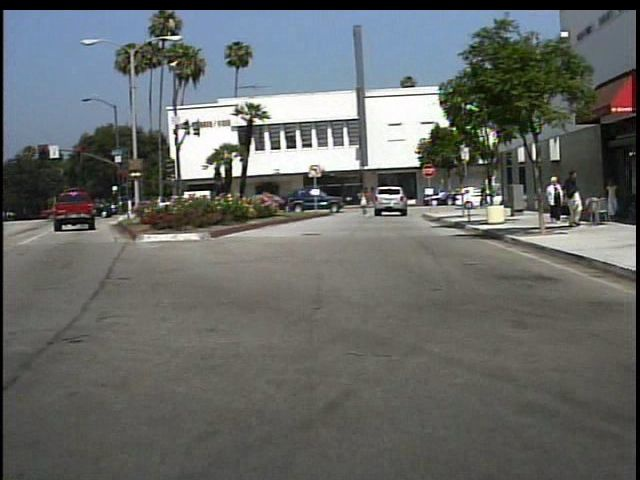person: (565, 170, 587, 230), (600, 178, 624, 224), (545, 177, 566, 226), (472, 181, 496, 214), (358, 186, 374, 218)
